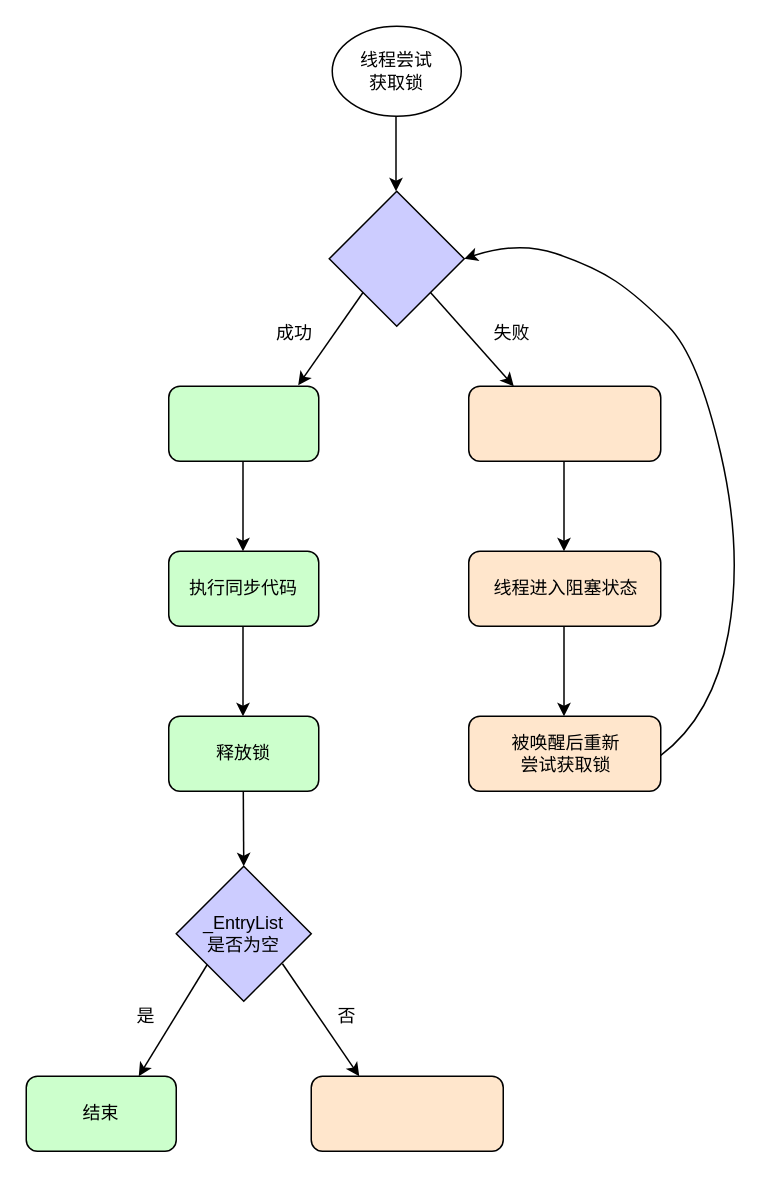
Image size: 770x1178. Some labels were removed from this diagram. The shapes that lost their labels are listed below. From the top down, each one's centre as x and y in pixels, then its label:
At [396,258]: "CAS设置_owner".
At [243,423]: "获取锁成功".
At [564,423]: "进入_EntryList队列".
At [406,1113]: "唤醒_EntryList中线程".
